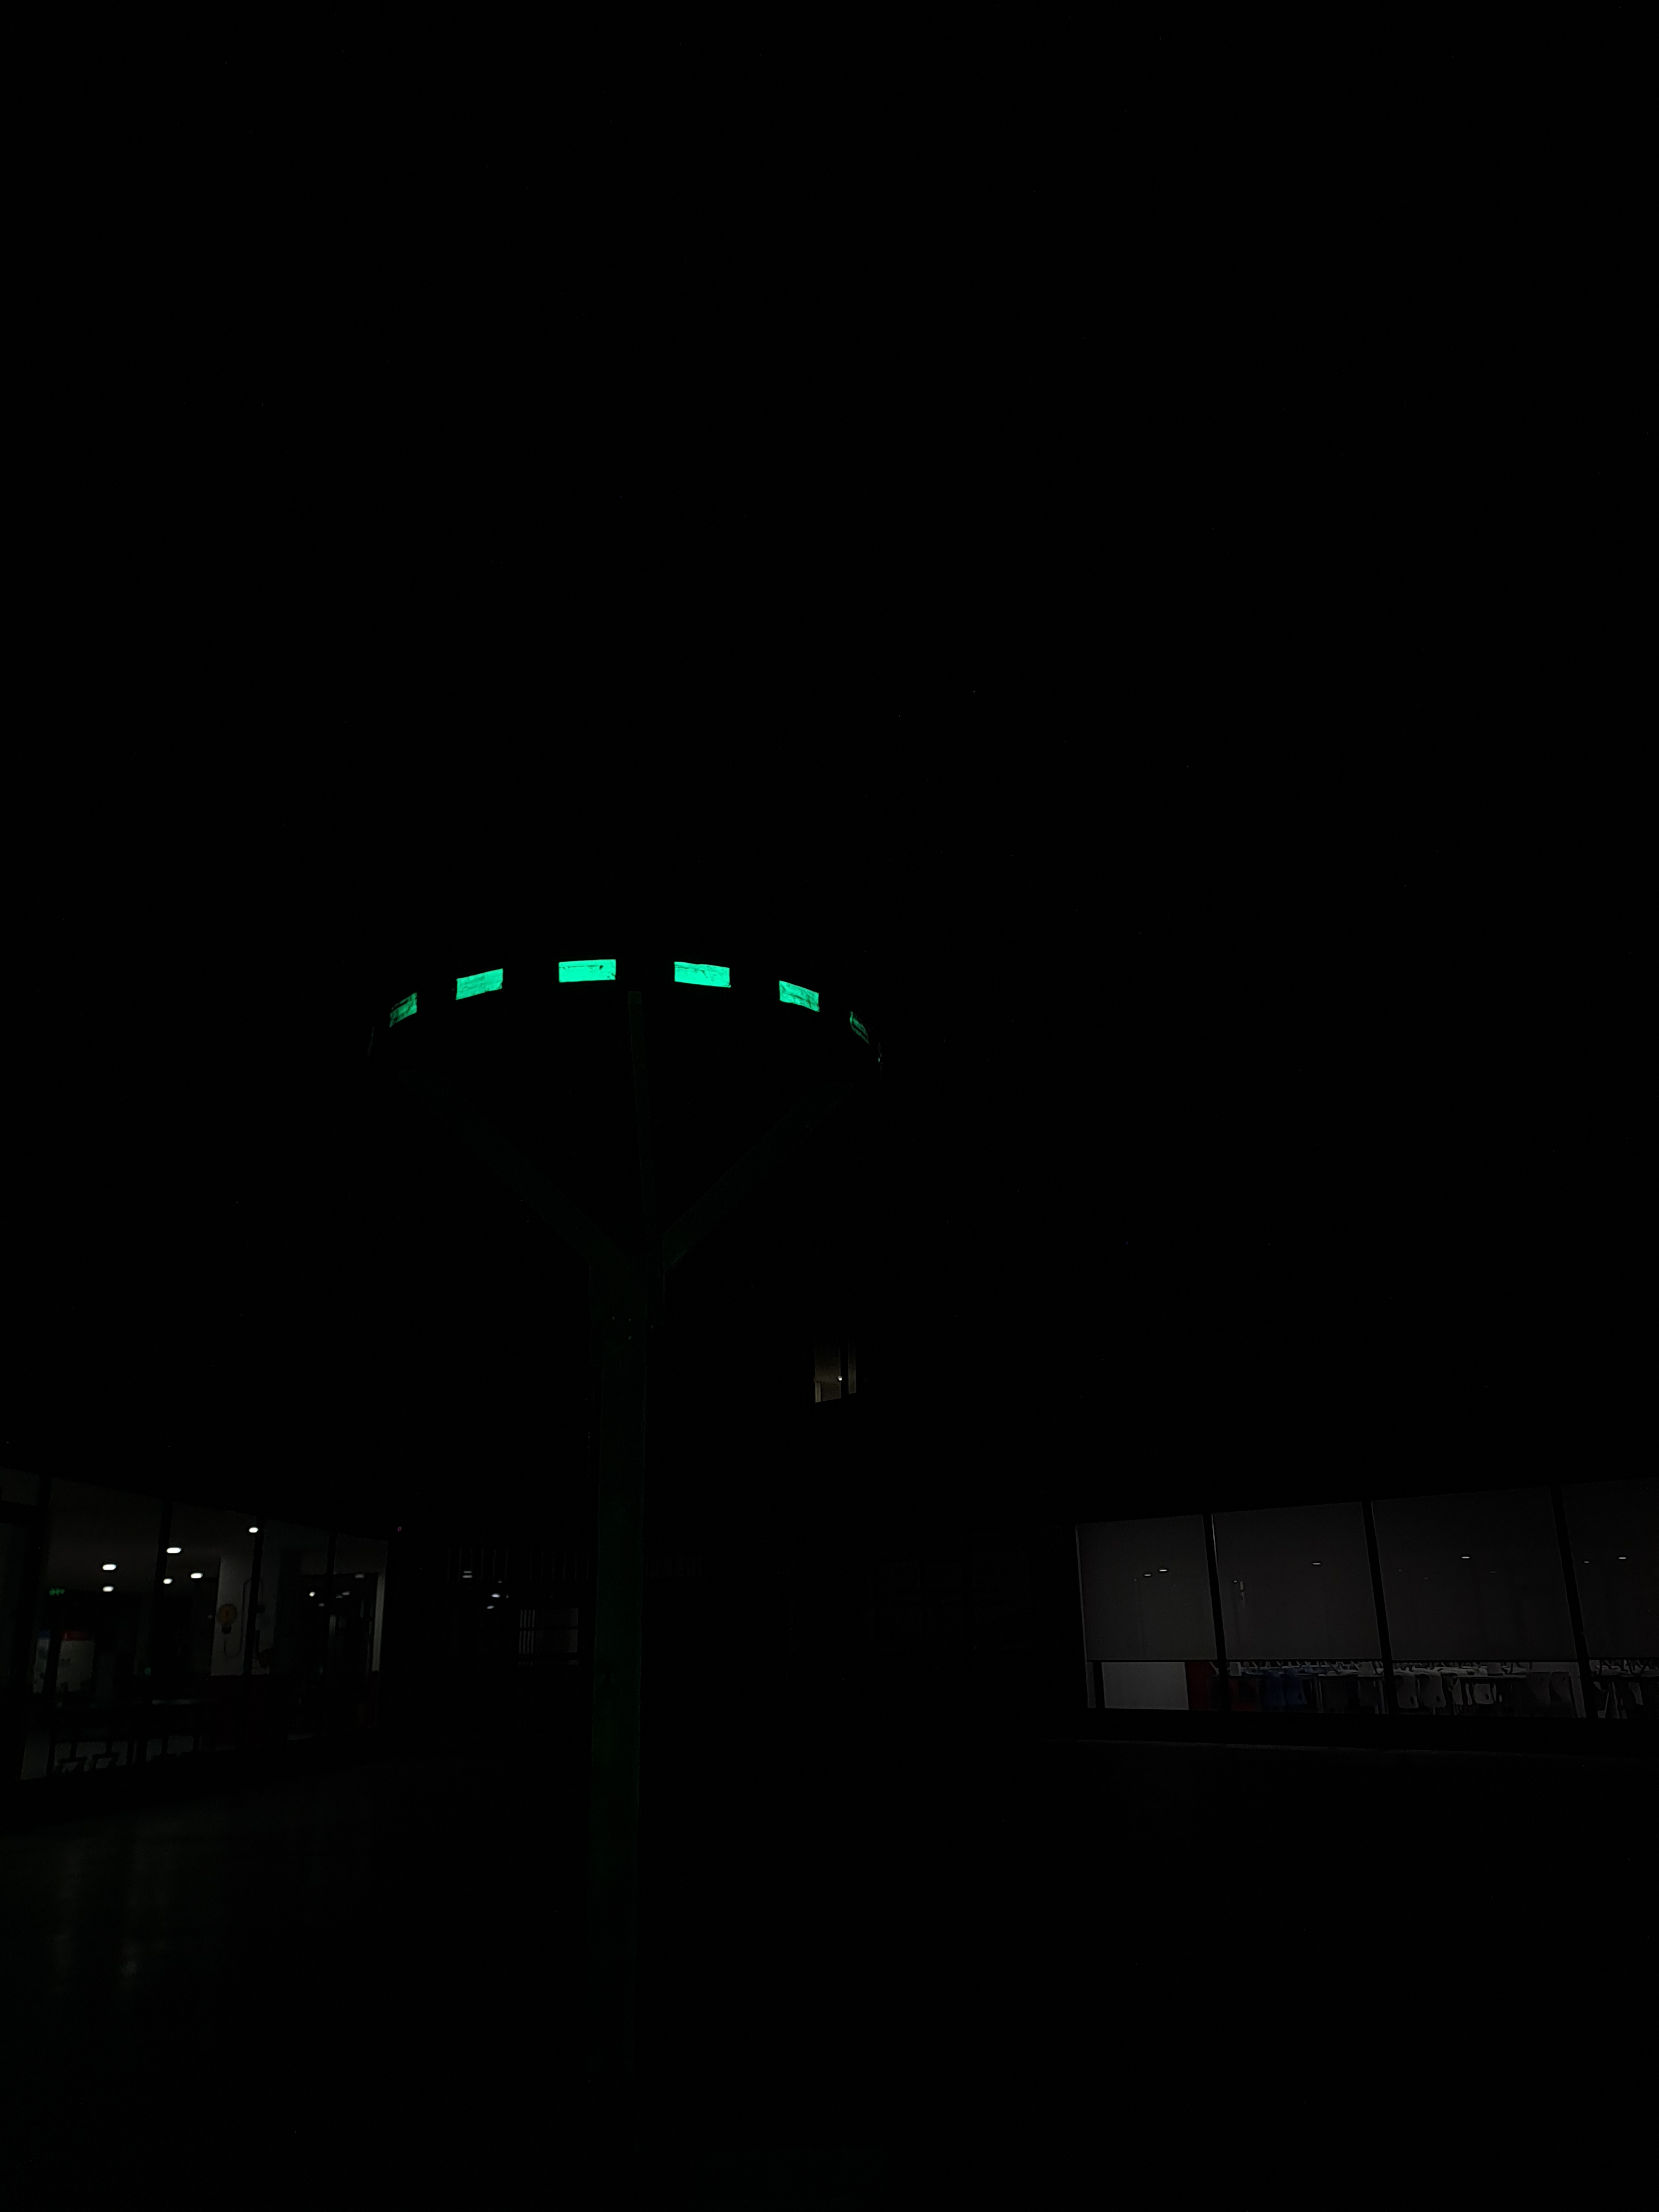hoop: (380, 954, 823, 1042)
